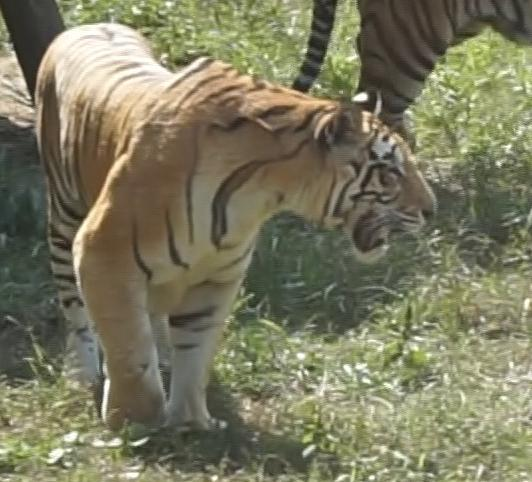tiger: (33, 23, 435, 428)
